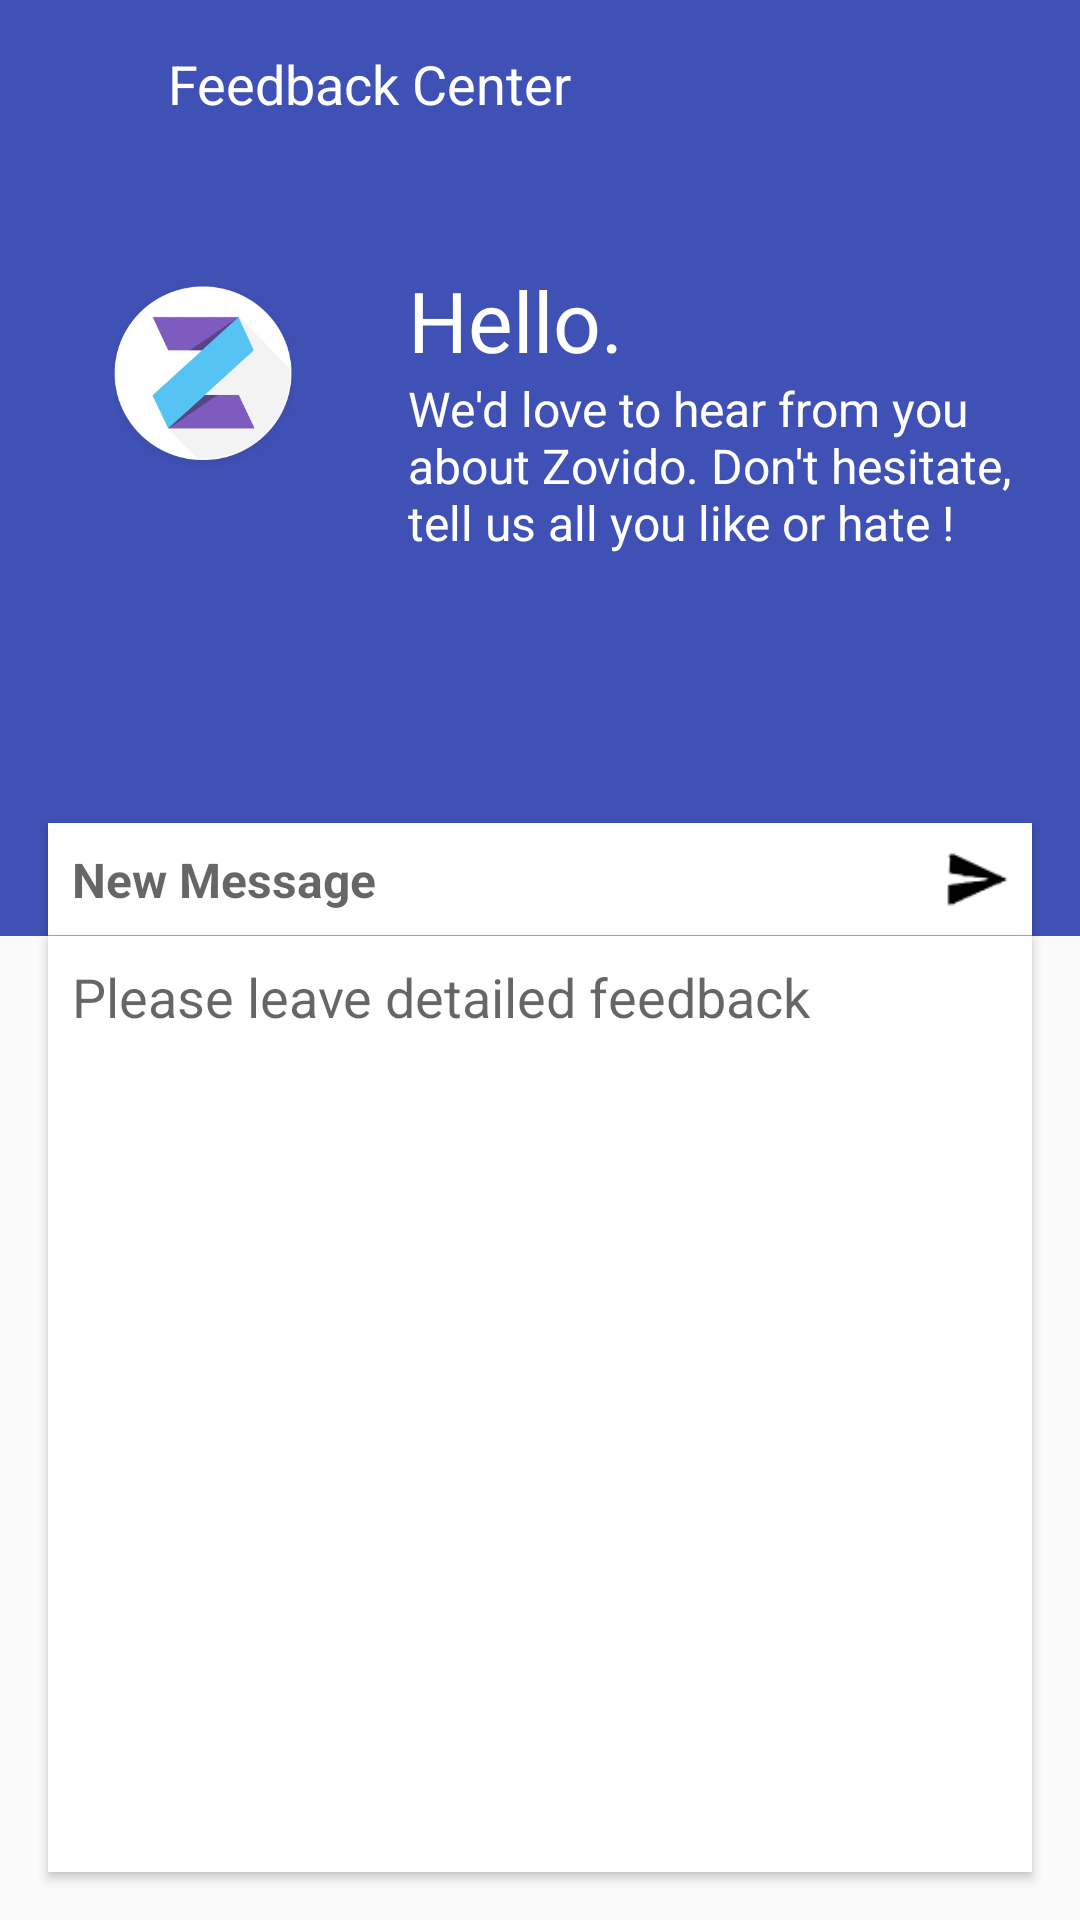

Where to tap for icons on this 1080px x 1920px app screen, as (x=x, y=y):
forward message: (x=972, y=879)
